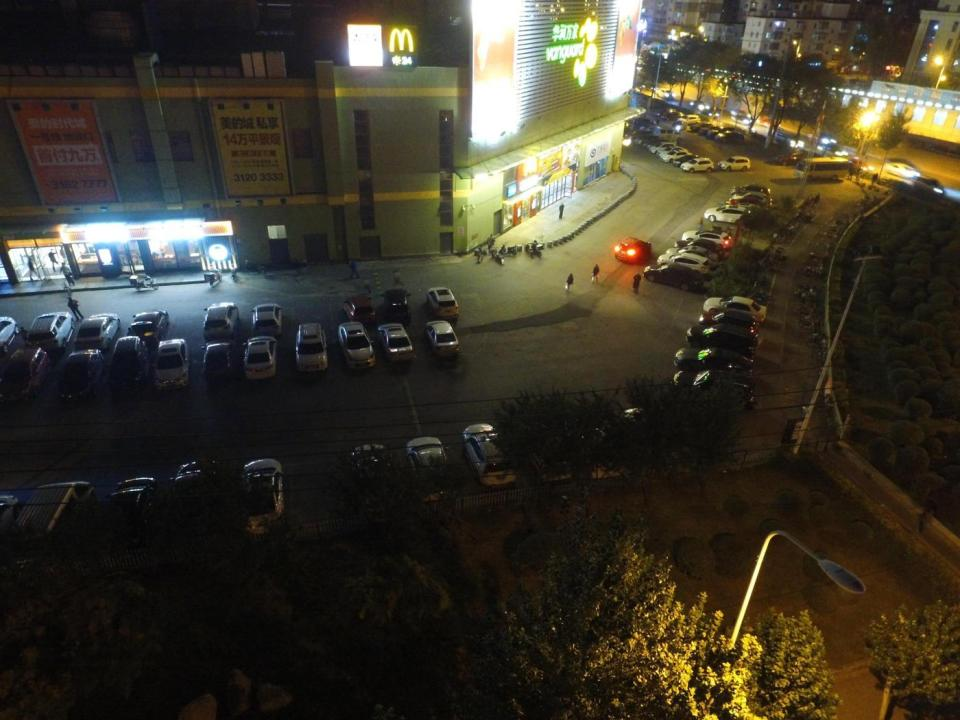bus: (794, 154, 850, 181)
car: (342, 435, 406, 515), (568, 409, 624, 485), (458, 418, 514, 493), (163, 456, 221, 528), (236, 450, 284, 534), (101, 473, 158, 539), (404, 432, 455, 505), (622, 404, 676, 472), (519, 414, 571, 482), (672, 344, 754, 380), (55, 349, 106, 402), (2, 346, 47, 403), (687, 324, 761, 354), (644, 260, 705, 295), (704, 292, 768, 324), (153, 338, 193, 389), (338, 319, 377, 369), (199, 337, 238, 383), (421, 314, 463, 356), (74, 312, 120, 350), (376, 285, 413, 331), (296, 321, 329, 372), (374, 322, 415, 362), (242, 337, 281, 379), (30, 312, 75, 348), (202, 300, 242, 340), (705, 310, 762, 335), (612, 234, 653, 267), (249, 302, 284, 339), (426, 284, 461, 321), (666, 243, 718, 266), (672, 237, 725, 259), (132, 310, 166, 342), (341, 294, 375, 326), (661, 252, 709, 273), (703, 204, 753, 224), (683, 228, 732, 248), (730, 182, 774, 202), (884, 157, 921, 180), (732, 191, 773, 210), (774, 127, 809, 149), (773, 148, 815, 166), (812, 129, 842, 151), (729, 195, 767, 212), (726, 199, 763, 216), (720, 154, 752, 172), (682, 156, 715, 173), (756, 115, 782, 130), (649, 140, 676, 154), (672, 154, 703, 166), (851, 156, 874, 172), (716, 130, 745, 142), (678, 113, 704, 126), (657, 144, 681, 158), (728, 104, 752, 118), (635, 134, 661, 145), (658, 85, 676, 100), (663, 150, 687, 161), (672, 121, 691, 134), (658, 107, 678, 119), (732, 113, 751, 125), (691, 120, 713, 130), (688, 99, 708, 110), (632, 118, 656, 127), (665, 112, 686, 122), (646, 138, 669, 147), (704, 108, 721, 120), (641, 137, 663, 146), (701, 123, 721, 132)
van: (8, 472, 102, 547), (673, 366, 764, 407), (107, 334, 154, 398), (912, 173, 950, 195), (654, 125, 684, 141), (625, 129, 655, 140), (707, 126, 737, 136)
